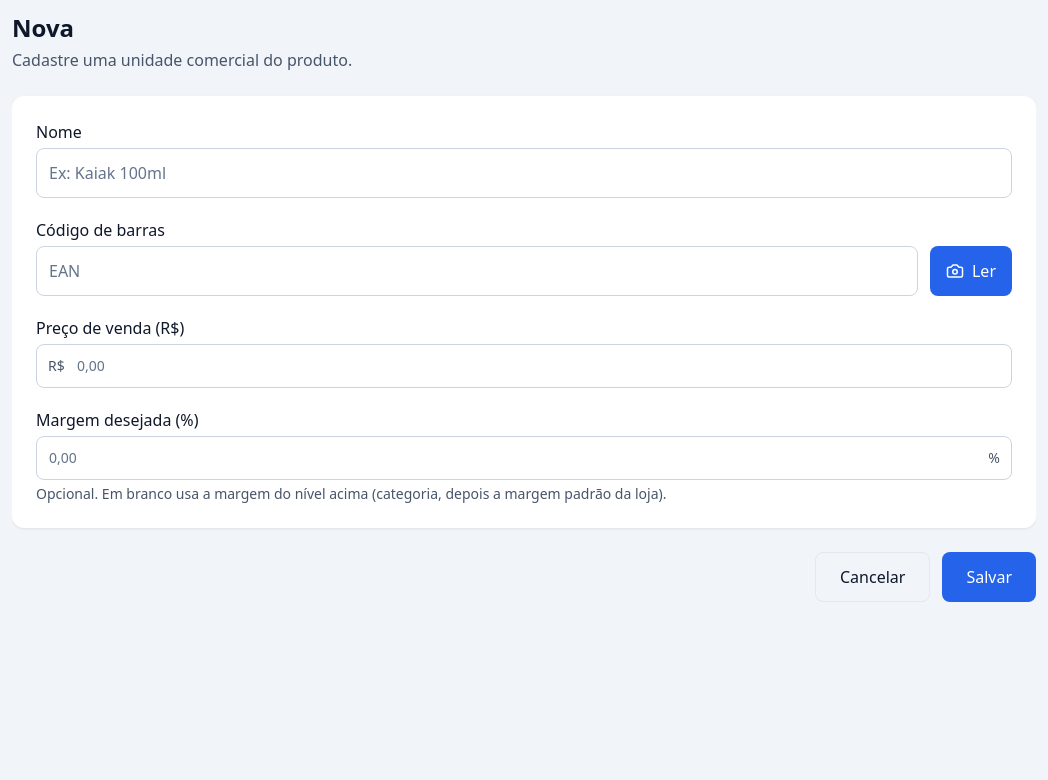
Scenario: erros de campo acessíveis nos formulários › variante: preço inválido
Type "1,999" into the field labelled "Preço de venda (R$)" at (524, 366), box top-left (36, 344), bottom-right (1012, 388)
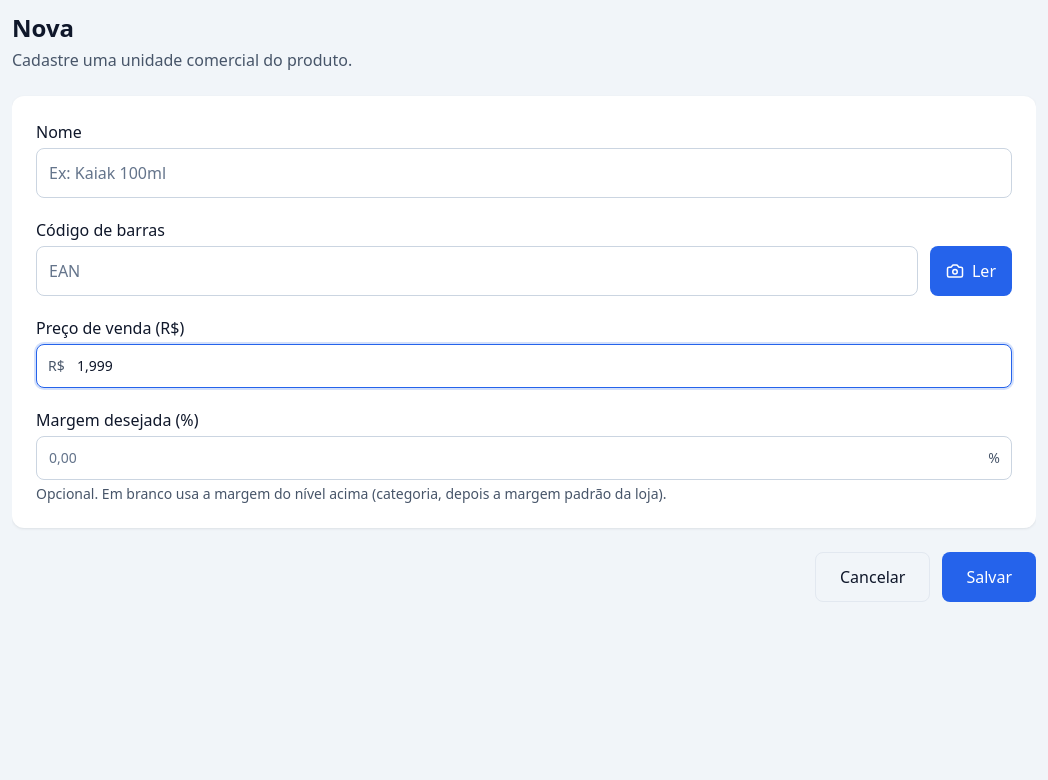
Click the button "Salvar" at (989, 577), box top-left (942, 552), bottom-right (1036, 602)
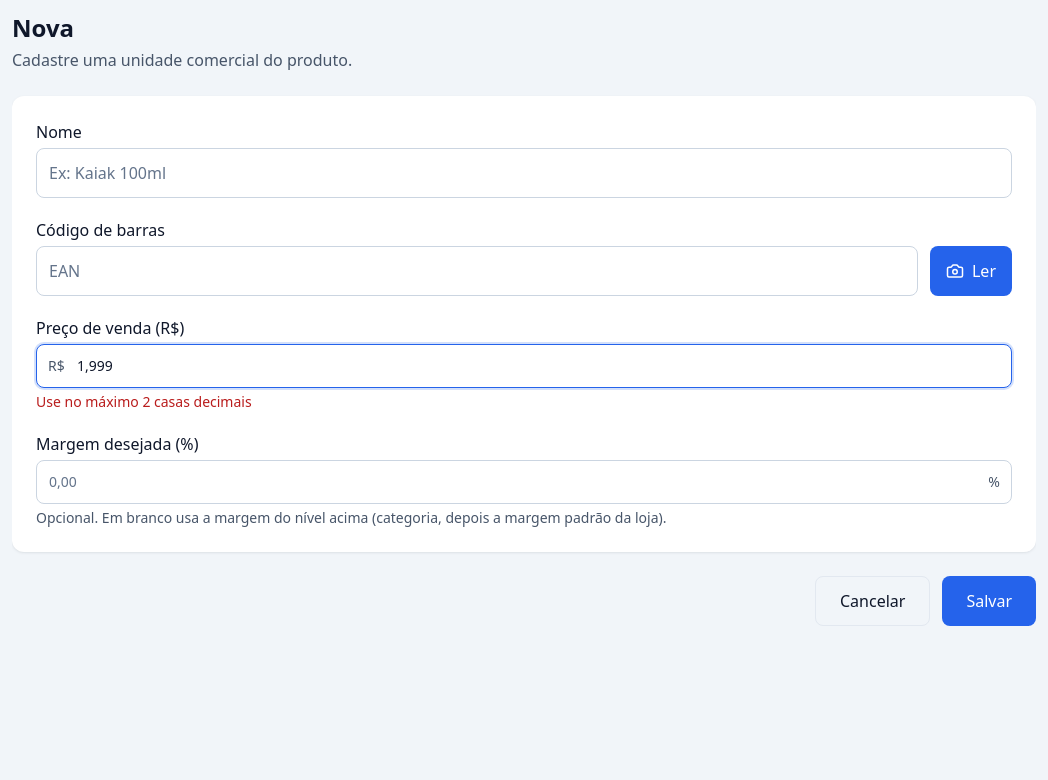
Expected: the text "Use no máximo 2 casas decimais" is shown, top-left (36, 392), bottom-right (252, 411)
